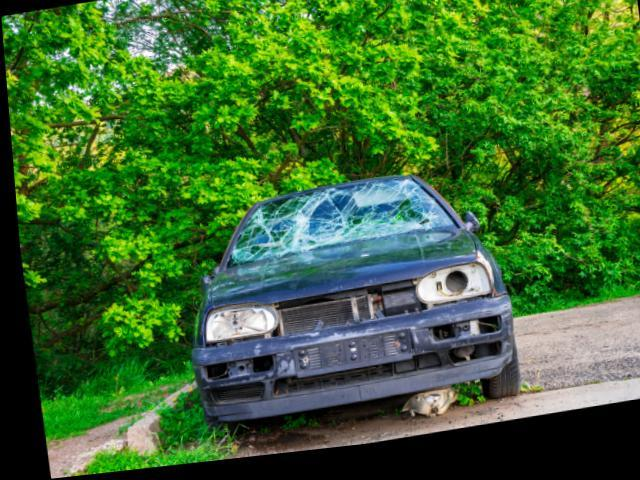glass shatter: (220, 188, 449, 273)
lamp broken: (412, 274, 485, 313), (199, 310, 271, 348)
no part: (256, 288, 426, 343)
